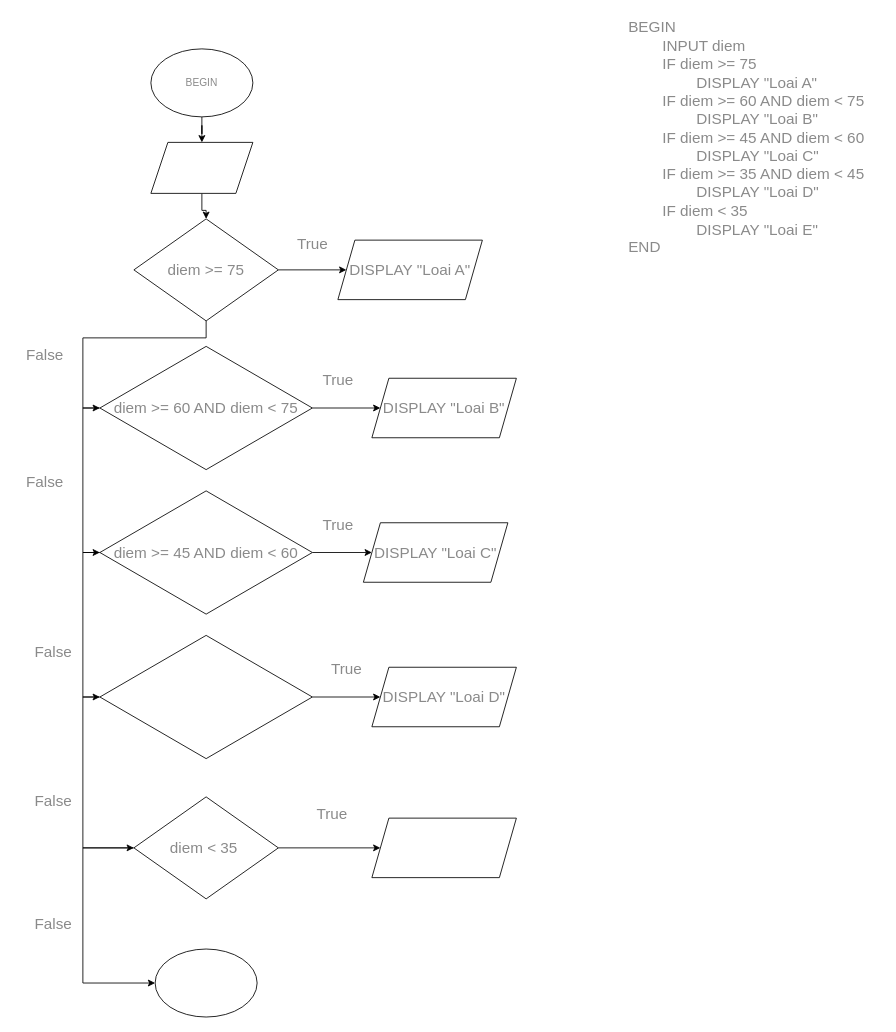
Image size: 896x1032. Some labels were removed from this diagram. The centre of each missing label's shape, as x and y in pixels:
diem >= 35 AND diem < 45: the point at 205,697
DISPLAY "Loai E": the point at 443,847
END: the point at 205,982
INPUT diem: the point at 201,167
